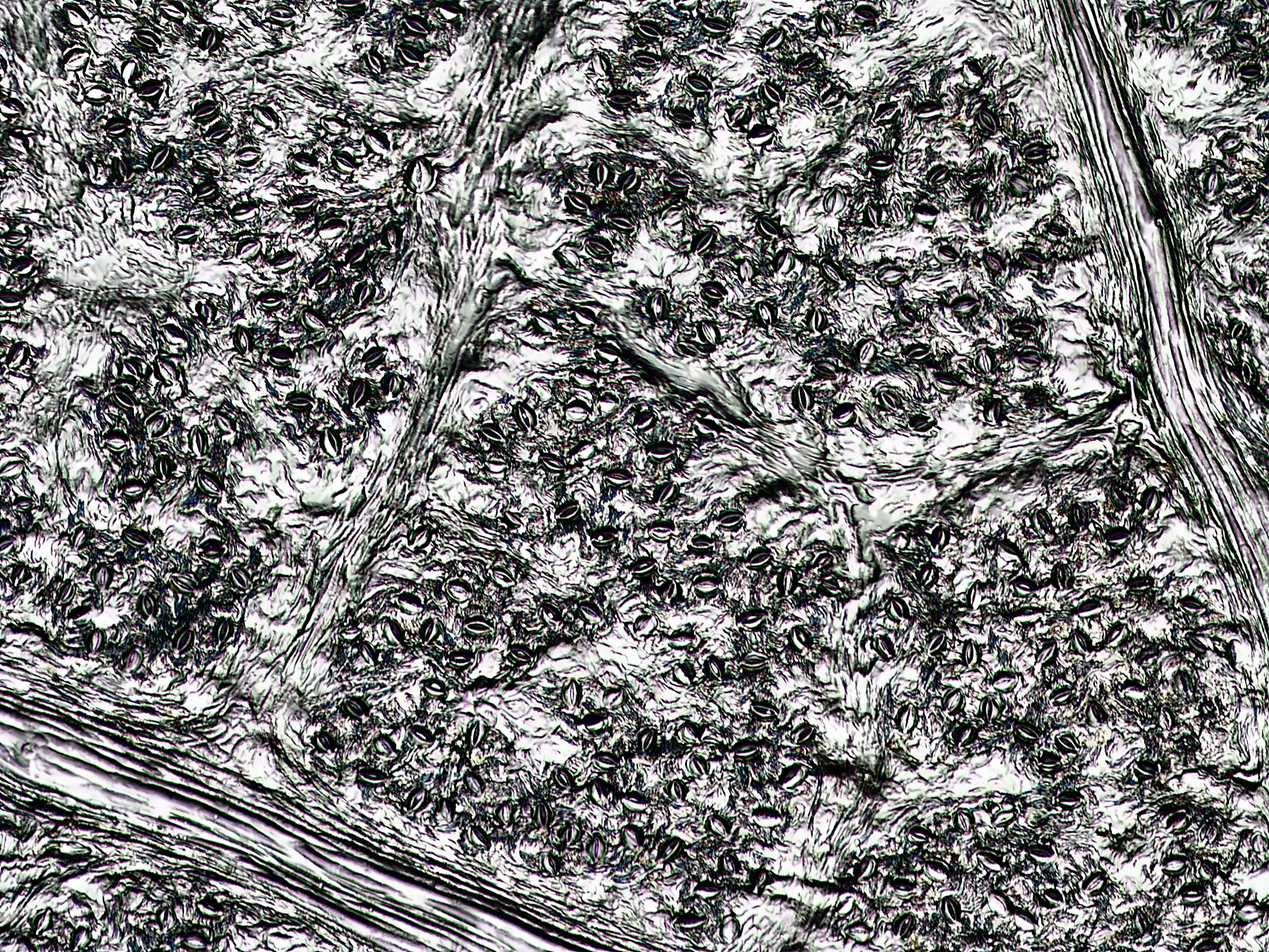stomata: (406, 158, 436, 194), (821, 182, 847, 216), (874, 262, 908, 287), (143, 408, 171, 438), (693, 572, 724, 599), (1188, 934, 1234, 952), (288, 151, 320, 176), (1009, 606, 1047, 627), (231, 324, 255, 357), (655, 834, 681, 864), (252, 103, 280, 130), (147, 144, 174, 172), (153, 357, 180, 385), (1081, 869, 1109, 896), (347, 378, 372, 408), (587, 157, 612, 187), (1160, 854, 1194, 876), (266, 3, 297, 27), (845, 919, 876, 943), (1198, 816, 1223, 845), (331, 150, 361, 174), (355, 766, 391, 786), (752, 808, 786, 829), (191, 153, 222, 176), (718, 914, 741, 945), (350, 280, 377, 306), (1049, 562, 1075, 589), (203, 121, 231, 146), (5, 341, 30, 369), (1021, 142, 1056, 162), (587, 777, 612, 805), (61, 46, 90, 70), (3, 131, 32, 155), (85, 156, 109, 185), (461, 617, 494, 638), (118, 478, 148, 501), (317, 218, 348, 240), (197, 470, 223, 496), (817, 12, 842, 39), (341, 695, 368, 720), (788, 625, 813, 652), (620, 791, 652, 812), (897, 703, 918, 735), (852, 854, 876, 882), (198, 536, 227, 559), (513, 401, 536, 430), (121, 645, 143, 675), (583, 235, 613, 257), (382, 617, 404, 647), (561, 676, 581, 709), (287, 193, 318, 214), (123, 527, 154, 548), (793, 384, 814, 415), (646, 442, 677, 463), (1202, 168, 1223, 199), (692, 231, 717, 257), (1196, 0, 1221, 26), (195, 298, 219, 325), (744, 546, 771, 570), (680, 718, 704, 745), (649, 287, 668, 321), (489, 567, 517, 590), (420, 674, 448, 697), (921, 857, 949, 880), (84, 82, 113, 104), (1068, 502, 1090, 531), (893, 910, 915, 939), (285, 391, 315, 412), (321, 427, 342, 457), (668, 630, 698, 651), (255, 292, 288, 311), (655, 480, 680, 505), (63, 2, 89, 26), (300, 308, 326, 332), (633, 613, 657, 639), (620, 824, 644, 850), (779, 764, 805, 788), (1165, 810, 1191, 834), (403, 13, 430, 36), (159, 321, 186, 344), (172, 628, 195, 655), (818, 257, 841, 284), (1218, 131, 1245, 154), (1233, 195, 1260, 218), (832, 890, 855, 917), (131, 31, 162, 51), (435, 0, 466, 20), (188, 425, 208, 456), (811, 359, 842, 379), (589, 750, 620, 770), (1076, 598, 1107, 618), (1132, 906, 1152, 937), (554, 500, 582, 522), (406, 787, 428, 815), (1174, 670, 1196, 698), (191, 101, 220, 122), (607, 212, 636, 233), (698, 281, 727, 302), (528, 313, 557, 334), (731, 739, 760, 760), (233, 147, 263, 167), (364, 129, 389, 153), (229, 203, 259, 223), (236, 236, 260, 261), (564, 189, 589, 213), (833, 401, 857, 426), (1019, 346, 1044, 370), (578, 601, 603, 625), (465, 719, 485, 749), (778, 566, 798, 596), (952, 722, 976, 747), (1024, 843, 1054, 863), (381, 372, 404, 398), (942, 688, 965, 714), (987, 890, 1010, 916), (137, 79, 164, 101), (951, 295, 978, 317), (648, 520, 675, 542), (1014, 719, 1041, 741), (6, 257, 37, 276), (588, 833, 607, 864), (267, 346, 295, 367), (360, 346, 388, 367), (102, 430, 130, 451), (64, 605, 92, 626), (563, 401, 591, 422), (990, 670, 1018, 691), (397, 45, 426, 65), (912, 100, 941, 120), (866, 154, 895, 174), (569, 367, 598, 387), (1134, 646, 1163, 666), (169, 224, 201, 242), (0, 458, 24, 482), (630, 49, 662, 67), (112, 386, 137, 409), (1007, 174, 1032, 197), (981, 250, 1004, 275), (855, 339, 878, 364), (597, 391, 622, 414), (409, 723, 434, 746), (1236, 900, 1261, 923), (212, 618, 234, 644), (872, 101, 898, 123), (718, 508, 744, 530), (462, 771, 484, 797), (1070, 628, 1092, 654), (320, 115, 350, 134), (538, 454, 568, 473), (190, 181, 217, 202), (382, 222, 403, 249), (0, 288, 27, 309), (31, 908, 52, 935), (591, 526, 618, 547), (447, 581, 474, 602), (469, 824, 490, 851), (940, 896, 961, 923), (1013, 909, 1040, 930), (169, 573, 197, 593), (634, 20, 662, 40), (687, 534, 715, 554), (738, 611, 769, 629), (1175, 884, 1206, 902), (213, 410, 237, 433), (372, 734, 396, 757), (603, 686, 627, 709), (686, 753, 709, 777), (1104, 623, 1127, 647), (667, 106, 696, 125), (750, 700, 779, 719), (1162, 4, 1181, 33), (980, 694, 999, 723), (346, 245, 368, 270), (398, 591, 423, 613), (885, 597, 907, 622), (1188, 631, 1213, 653), (977, 849, 1002, 871), (685, 74, 711, 95), (912, 202, 938, 223), (962, 167, 988, 188), (1238, 62, 1264, 83), (1012, 576, 1038, 597), (104, 116, 131, 136), (365, 49, 385, 76), (269, 252, 296, 272), (182, 931, 209, 951), (605, 469, 632, 489), (409, 524, 429, 551), (672, 660, 692, 687), (739, 652, 769, 670), (1056, 732, 1083, 752), (1055, 788, 1085, 806), (747, 126, 775, 145), (477, 423, 505, 442), (1178, 596, 1206, 615), (310, 268, 332, 292), (963, 636, 979, 669), (0, 97, 25, 118), (962, 59, 983, 84), (750, 867, 771, 892), (1035, 642, 1056, 667), (1084, 701, 1105, 726), (582, 714, 611, 732), (984, 397, 1004, 423), (552, 765, 572, 791), (195, 899, 222, 918), (979, 106, 998, 133), (807, 305, 826, 332), (1141, 487, 1160, 514), (954, 807, 973, 834), (604, 92, 636, 108), (113, 153, 130, 183), (70, 927, 93, 949), (760, 29, 782, 52), (661, 204, 684, 226), (938, 243, 961, 265), (540, 602, 562, 625), (792, 722, 815, 744), (998, 538, 1020, 561), (925, 632, 948, 654), (1041, 883, 1064, 905), (0, 230, 28, 248), (94, 562, 112, 590), (702, 19, 730, 37), (762, 81, 783, 105), (927, 165, 951, 186), (1049, 688, 1077, 706), (119, 58, 139, 83), (756, 217, 781, 237), (933, 372, 958, 392), (693, 416, 718, 436), (659, 579, 679, 604), (419, 619, 439, 644), (928, 524, 948, 549), (1111, 483, 1131, 508), (1105, 528, 1130, 548), (1225, 638, 1245, 663), (794, 52, 820, 71), (630, 557, 656, 576), (918, 562, 937, 588), (1035, 752, 1061, 771), (971, 195, 988, 224), (756, 299, 773, 328), (138, 592, 156, 619), (737, 257, 755, 284), (699, 319, 717, 346), (594, 345, 621, 363), (448, 650, 475, 668), (694, 880, 721, 898), (556, 248, 578, 270), (706, 814, 727, 837), (559, 822, 579, 846), (910, 415, 938, 432), (154, 454, 173, 479), (73, 525, 92, 550), (630, 412, 655, 431), (484, 454, 509, 473), (892, 877, 917, 896), (1133, 759, 1158, 778), (675, 912, 704, 928), (575, 305, 597, 326), (200, 27, 220, 50), (1021, 247, 1044, 267), (87, 628, 104, 655), (665, 172, 692, 189), (1010, 317, 1037, 334), (591, 51, 610, 75), (620, 170, 639, 194), (774, 250, 793, 274), (667, 778, 686, 802), (1231, 33, 1255, 52), (111, 330, 129, 355), (706, 656, 724, 681), (818, 577, 843, 595), (159, 2, 185, 19), (534, 802, 551, 828), (1240, 360, 1257, 386), (229, 567, 249, 589), (57, 582, 76, 605), (977, 350, 996, 373), (336, 0, 365, 15), (1125, 576, 1154, 591), (820, 87, 844, 105), (316, 731, 334, 755), (875, 634, 893, 658), (991, 809, 1015, 827), (159, 905, 176, 930), (509, 646, 534, 663), (437, 797, 454, 822), (638, 727, 655, 752), (967, 582, 984, 607), (1123, 680, 1148, 697), (907, 826, 932, 843), (1128, 8, 1144, 34), (12, 495, 35, 513), (573, 442, 596, 460), (1036, 509, 1053, 533), (879, 389, 899, 409), (1244, 271, 1260, 296), (729, 106, 750, 125), (1199, 859, 1217, 881), (866, 201, 880, 229), (854, 5, 877, 22), (0, 533, 16, 557), (544, 851, 560, 875), (498, 802, 513, 827), (120, 359, 140, 377), (1042, 223, 1066, 238), (897, 306, 917, 324), (907, 345, 931, 360), (1159, 706, 1174, 730), (12, 563, 28, 585), (719, 851, 735, 873), (359, 641, 374, 664), (506, 509, 524, 528), (341, 622, 360, 639), (816, 552, 832, 568), (1246, 0, 1269, 11), (1231, 320, 1245, 337), (1199, 701, 1213, 717)
